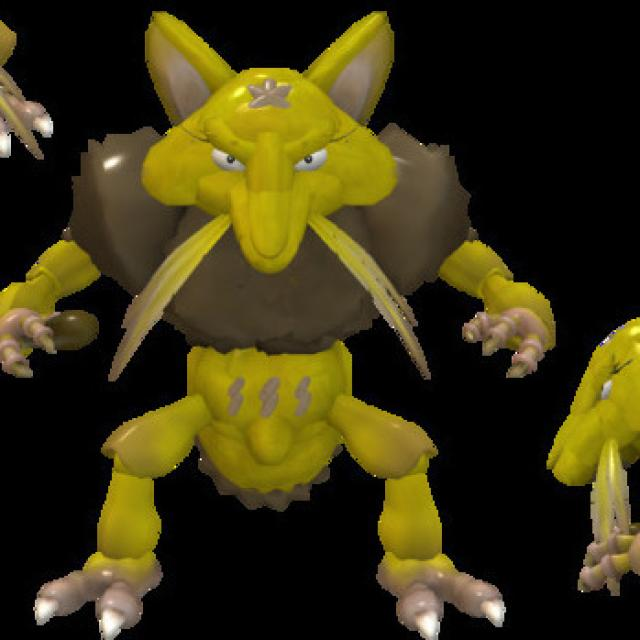Kadabra: (66, 11, 466, 626)
